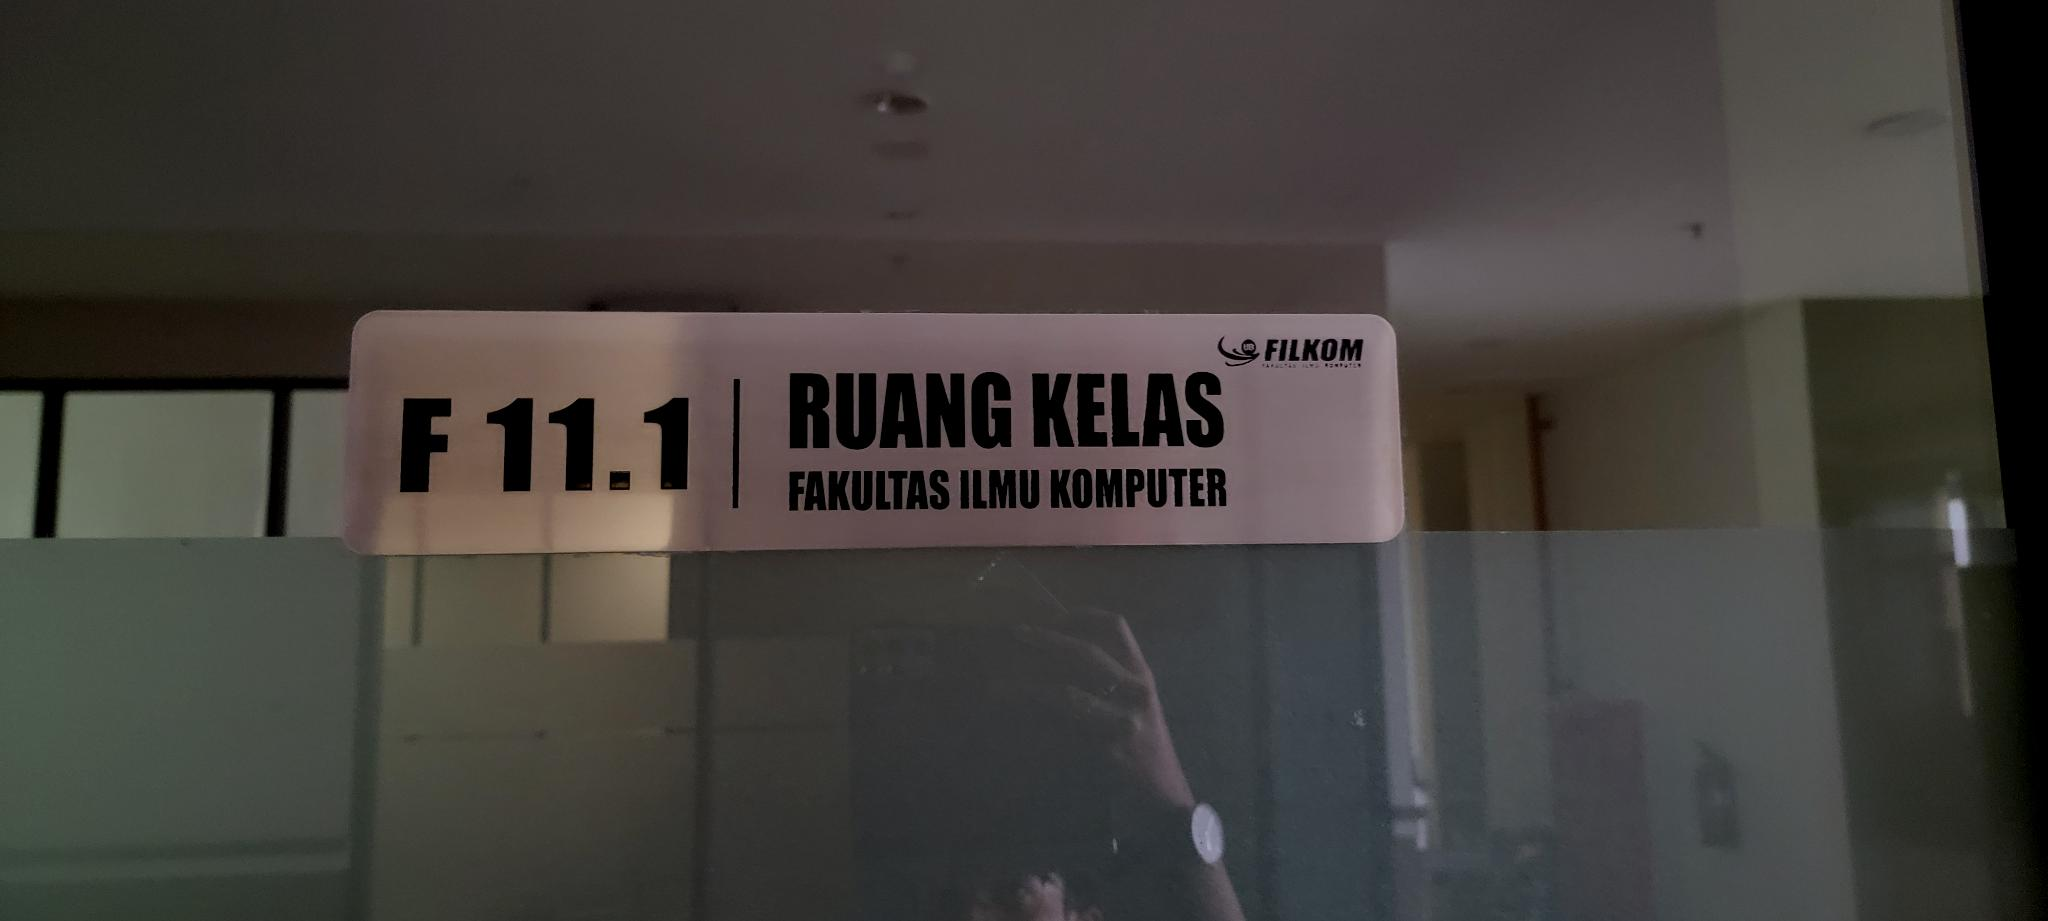plate: (350, 300, 1404, 560)
